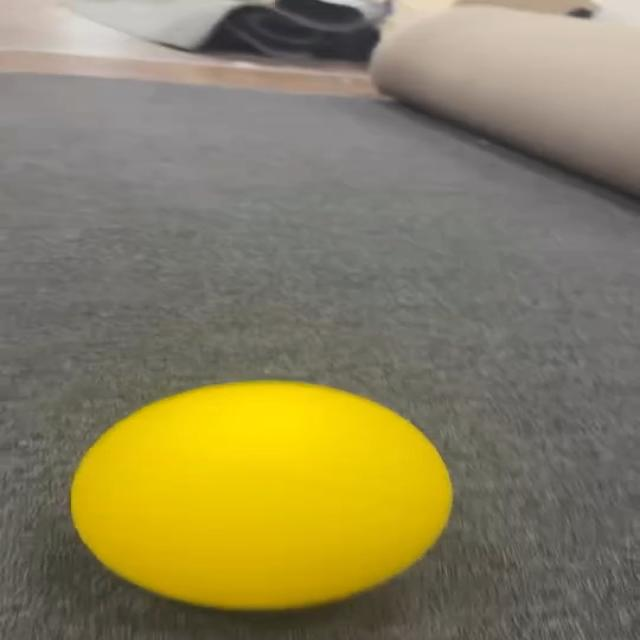Fuels: (70, 379, 451, 607)
